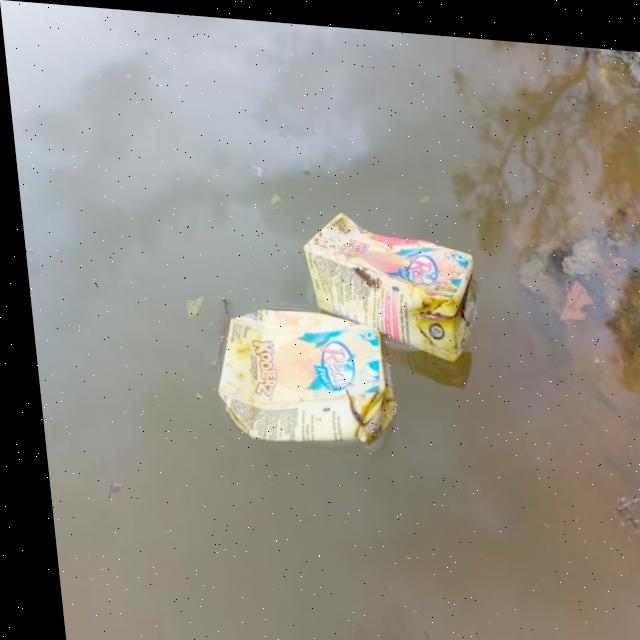paper: (288, 189, 485, 343), (190, 305, 400, 449)
